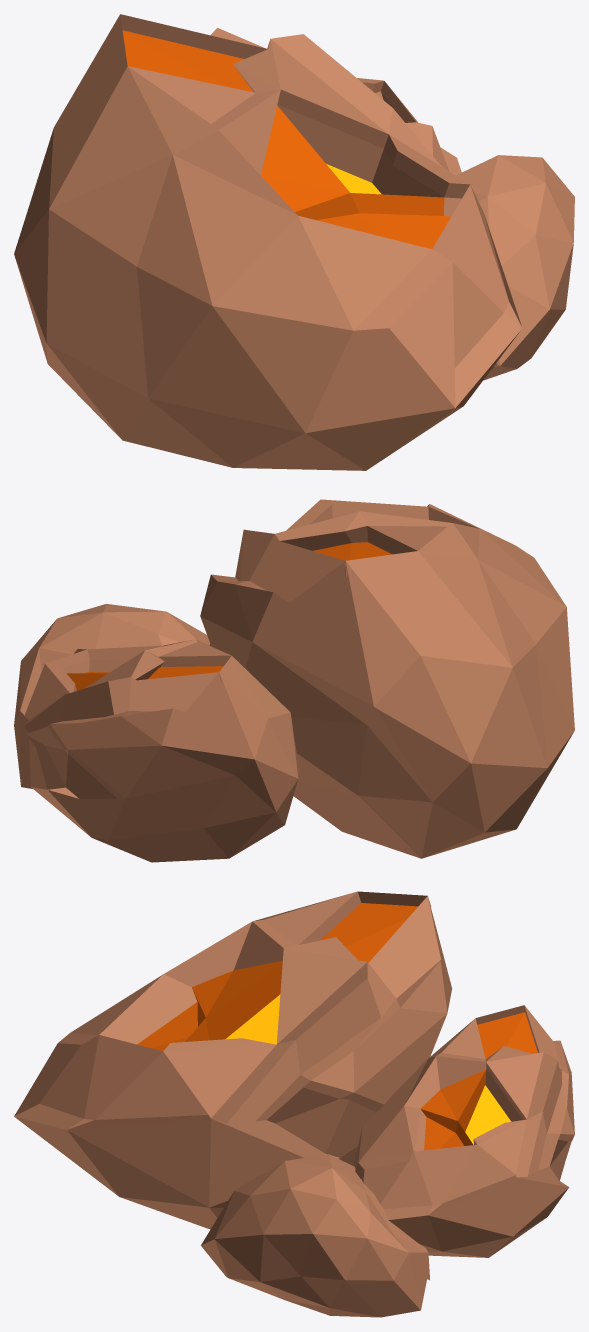
File: mineral peque.glb
3 renders of one model, top to bottom at view 1: azimuth 30°, elevation 25°; view 2: azimuth 150°, elevation 25°; view 3: azimuth 270°, elevation 25°, orthographic. The views are drawn at different scales.
Visible parts, largest first — view 1: Icosphere.011; view 2: Icosphere.011; view 3: Icosphere.011.
Boxes of the visible parts, left/top/right/bottom form: Icosphere.011: left=14, top=14, right=574, bottom=470; Icosphere.011: left=14, top=499, right=574, bottom=862; Icosphere.011: left=14, top=891, right=574, bottom=1317.
Size of the model in its own units: 0.5749 by 0.3849 by 0.634.
